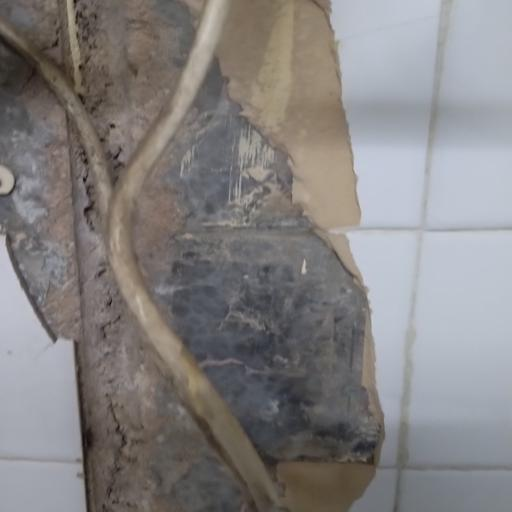spalling: (9, 0, 384, 506)
